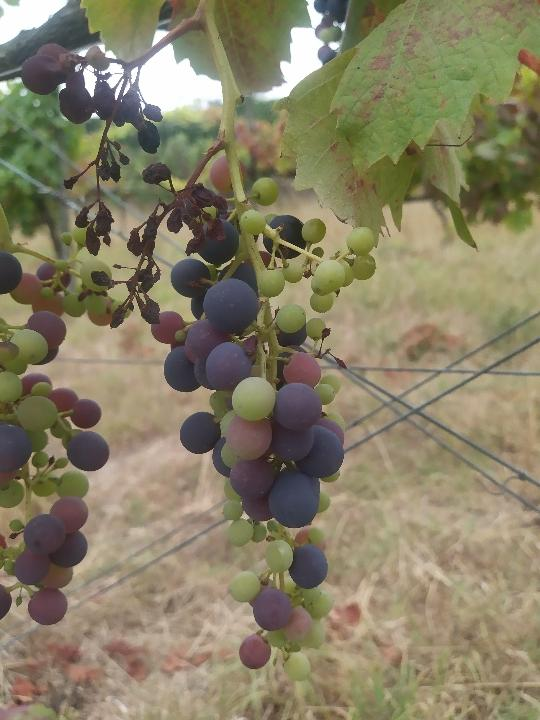grape: (90, 153, 382, 690), (21, 40, 164, 257)
